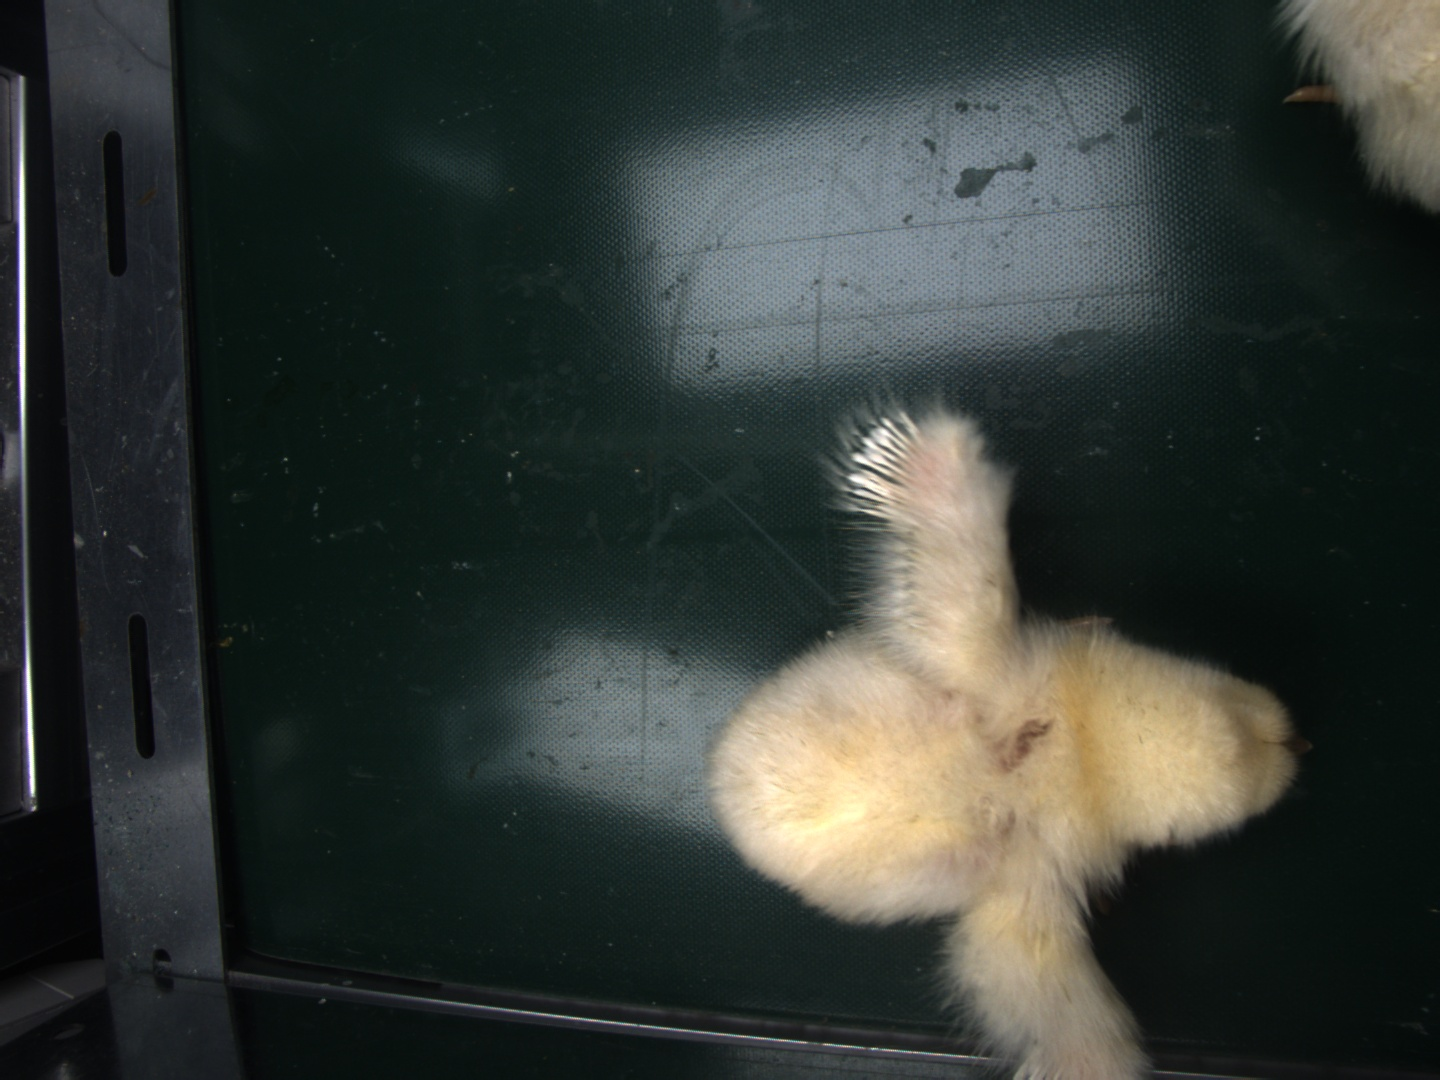male: (842, 412, 933, 518)
